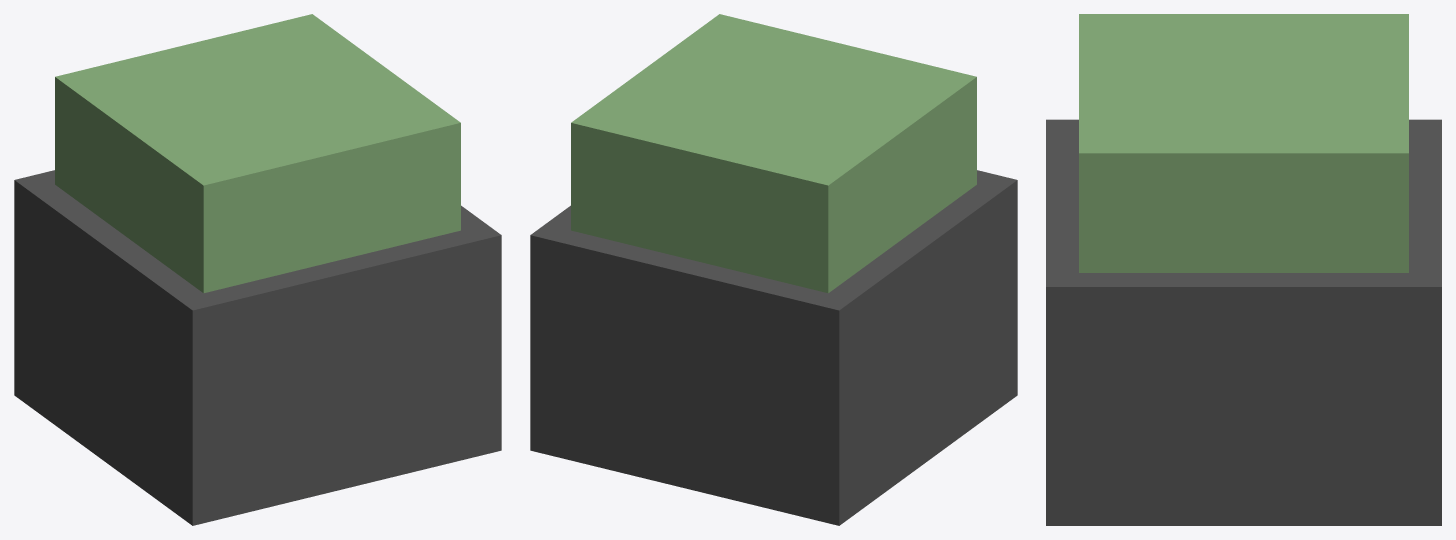
Rendered from planter.glb.
The picture shows the model from 3 angles, left to right: view 1: azimuth 30°, elevation 25°; view 2: azimuth 150°, elevation 25°; view 3: azimuth 270°, elevation 25°; orthographic projection. The views are drawn at different scales.
Parts seen in each view (by area): view 1: planter, planter_shrub; view 2: planter, planter_shrub; view 3: planter, planter_shrub.
Boxes of the visible parts, <box> form: planter: <box>14,170,501,525</box>; planter_shrub: <box>55,14,460,293</box>; planter: <box>530,170,1017,525</box>; planter_shrub: <box>571,14,976,293</box>; planter: <box>1046,119,1441,525</box>; planter_shrub: <box>1079,14,1408,272</box>.
Bounding box in the file's own units: 1.2 × 1.2 × 1.2.
